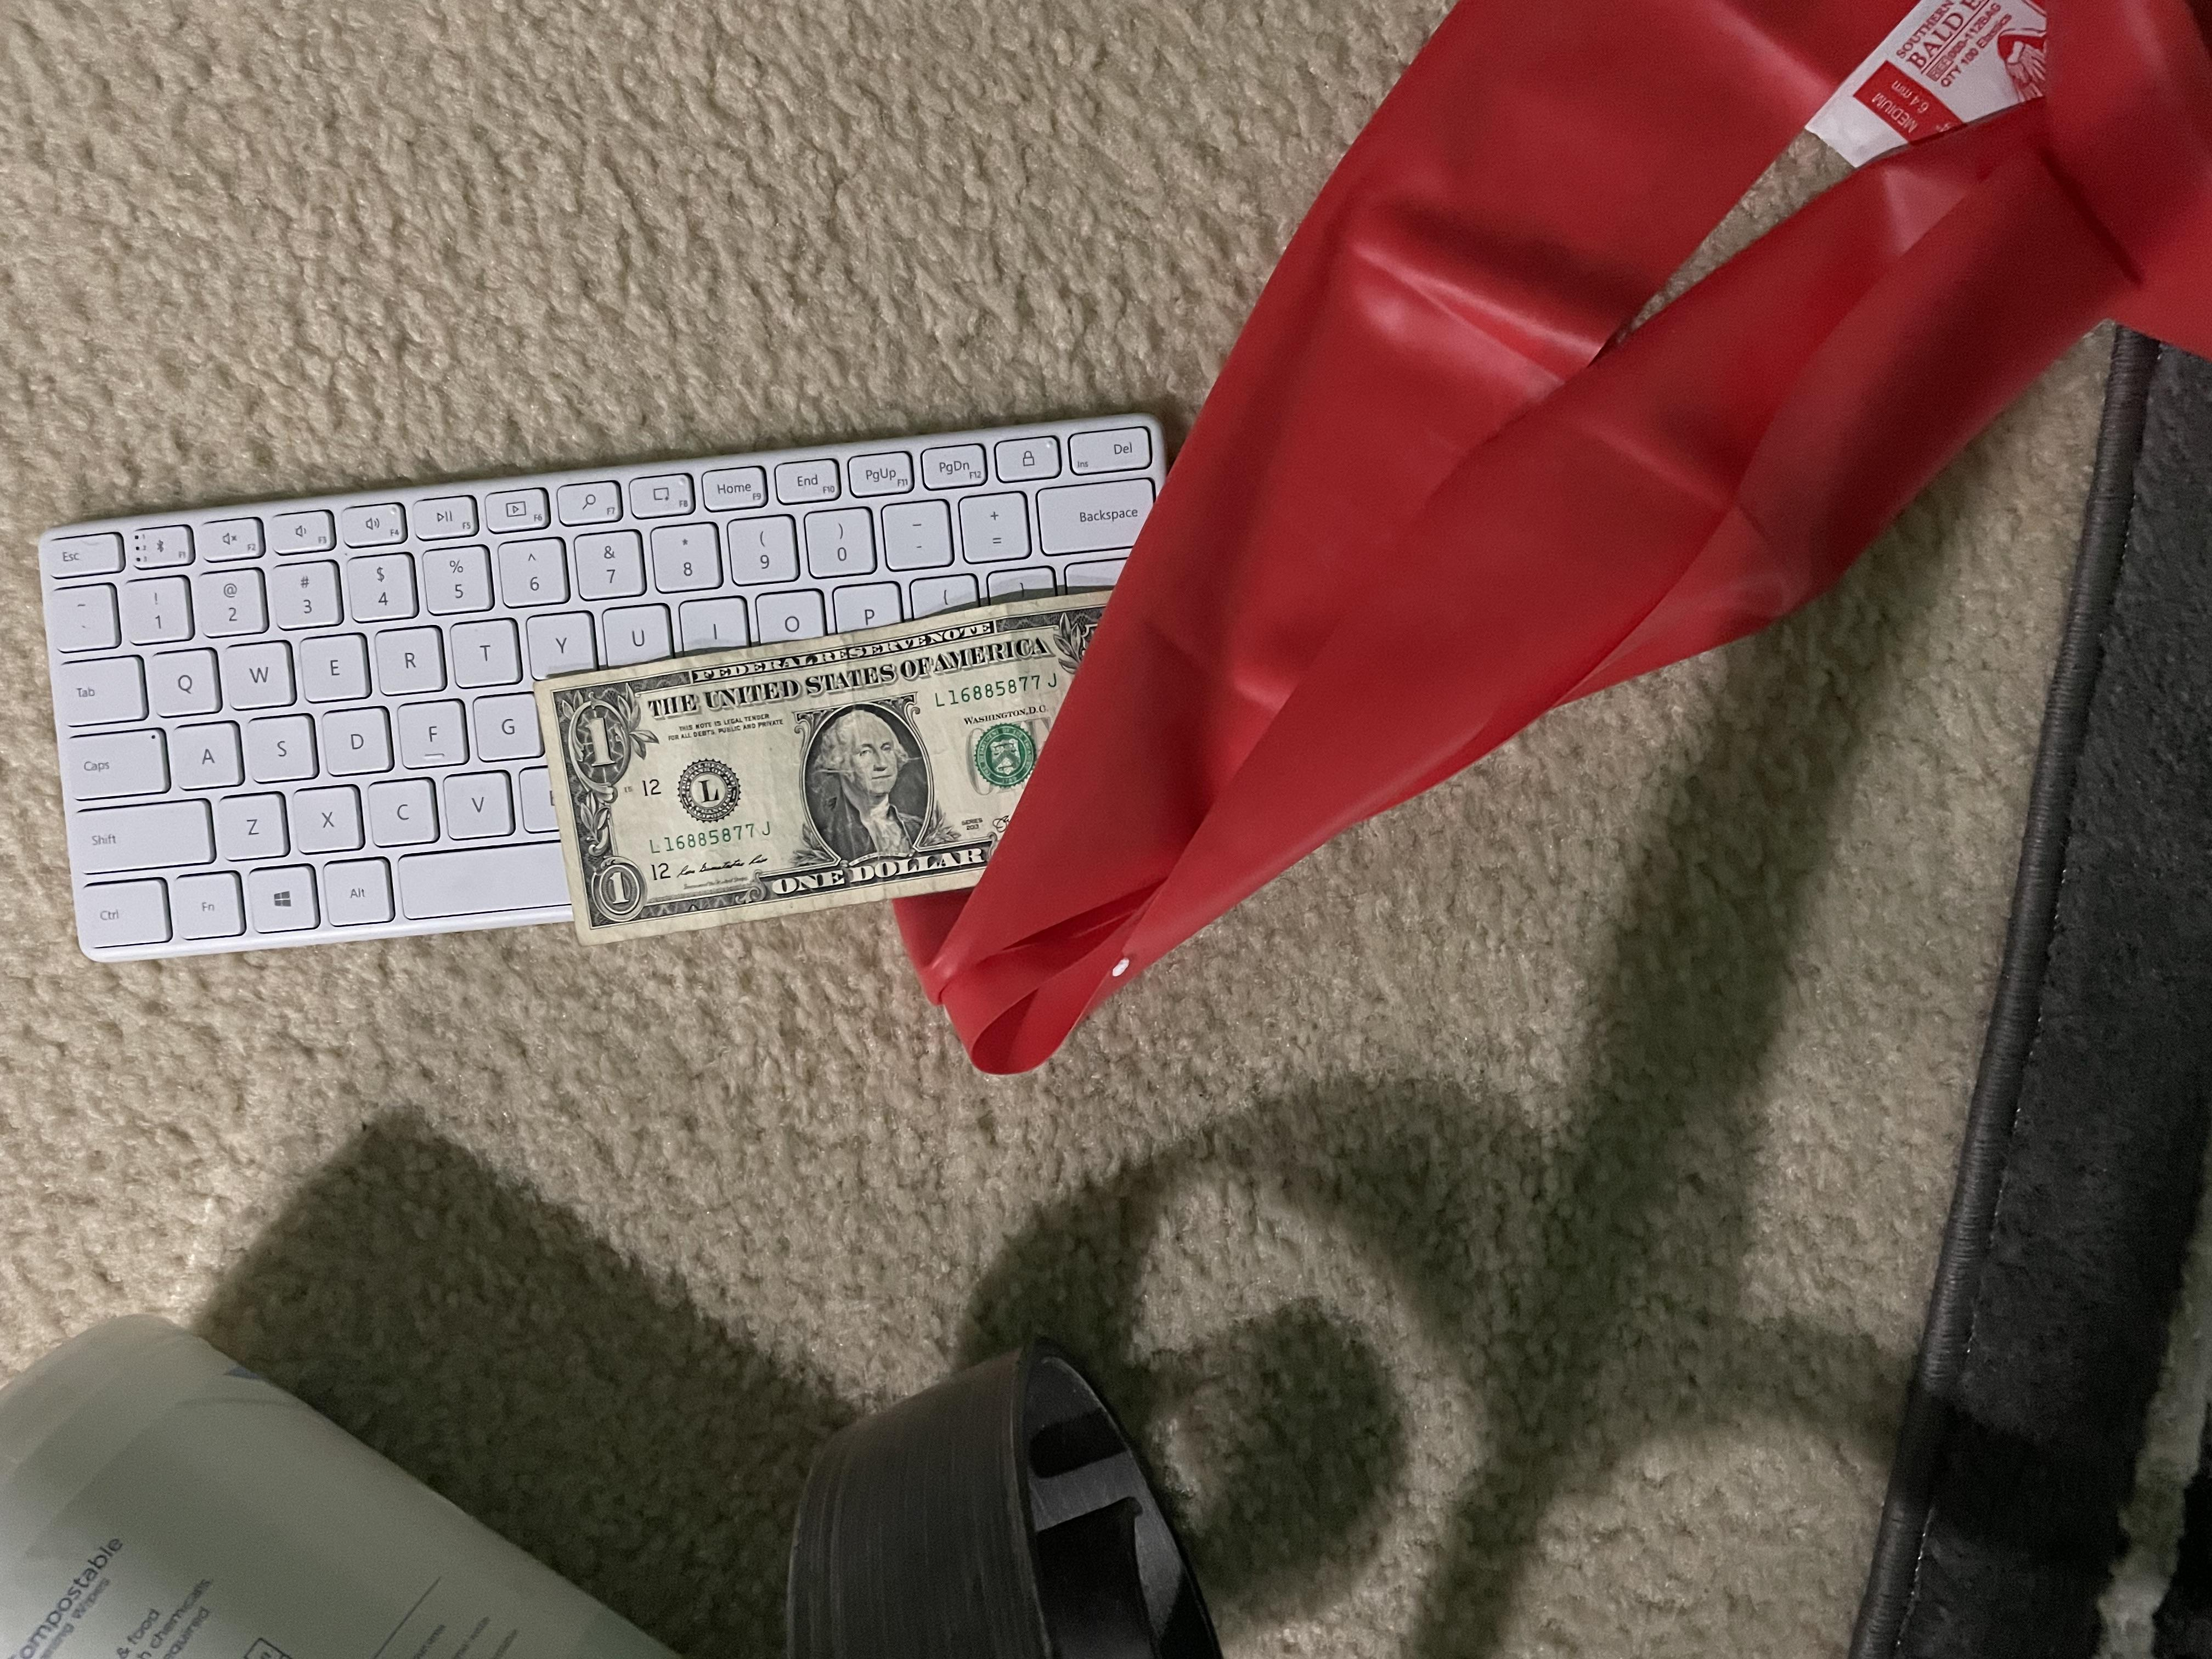OneBill: (536, 587, 1191, 953)
